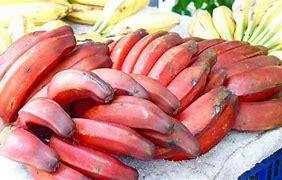banana: (0, 40, 282, 172), (0, 0, 179, 37), (185, 2, 282, 45)
